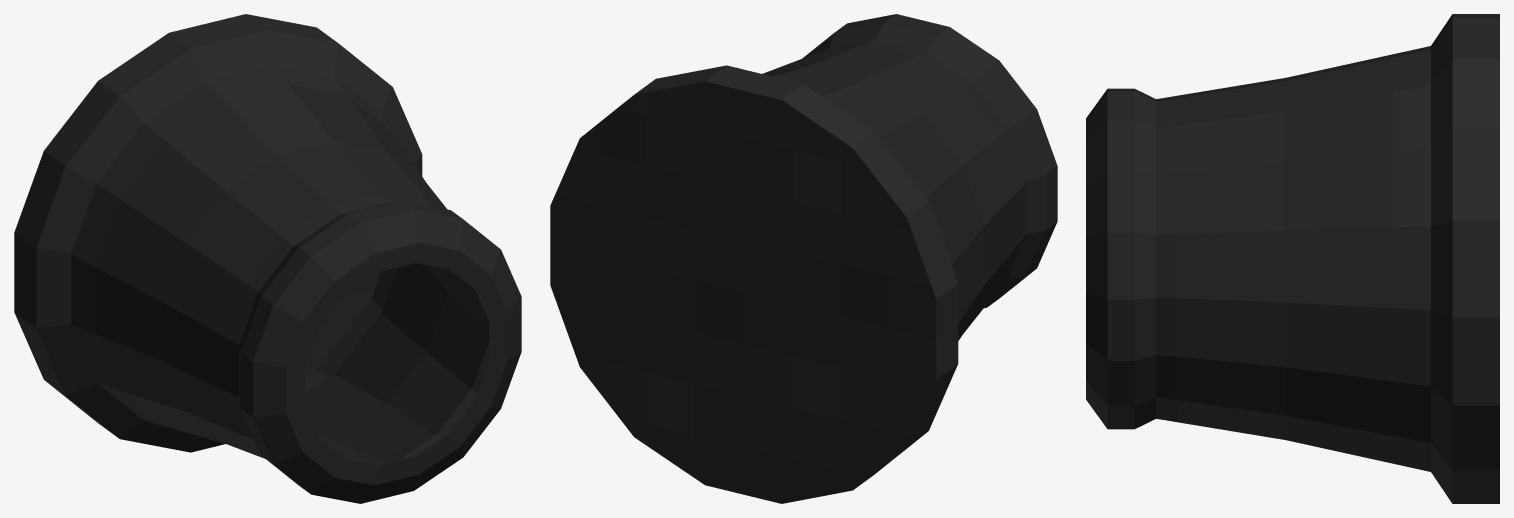
The model's file is decopole_calheights_base_n.obj.
The picture shows the model from 3 angles, left to right: view 1: azimuth 30°, elevation 25°; view 2: azimuth 150°, elevation 25°; view 3: azimuth 270°, elevation 25°; orthographic projection. The views are drawn at different scales.
Visible parts, largest first — view 1: decopole_calheights_base_n; view 2: decopole_calheights_base_n; view 3: decopole_calheights_base_n.
Part boxes in pixels (<box>): decopole_calheights_base_n: <box>14,14,521,503</box>; decopole_calheights_base_n: <box>550,14,1057,503</box>; decopole_calheights_base_n: <box>1086,14,1499,503</box>.
Size of the model in its own units: 0.564 by 0.564 by 0.48.
